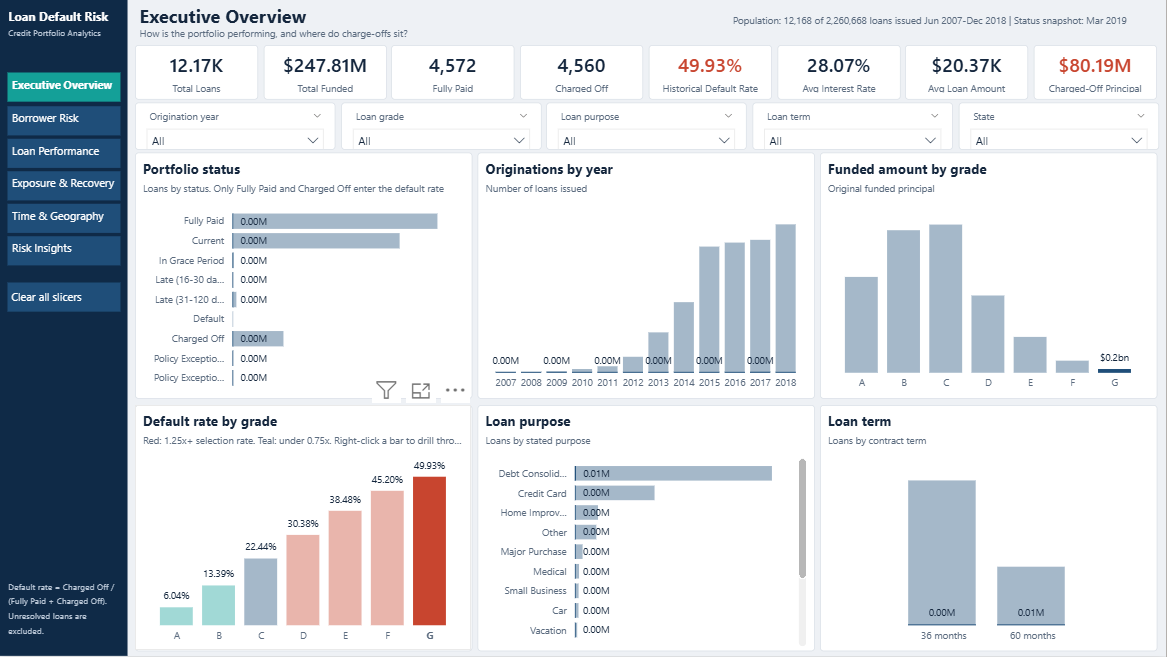

This screenshot's page, from the dashboard's own definition file:
{"tool":"powerbi","page":{"name":"Executive Overview","canvas":[1280,720],"ordinal":0},"visuals":[{"type":"textbox","box":[0,0,140,720],"z":0},{"type":"textbox","box":[4,4,134,72],"z":1000},{"type":"textbox","box":[8,80,124,32],"z":2000},{"type":"actionButton","box":[8,80,124,32],"z":3000},{"type":"textbox","box":[8,116,124,32],"z":4000},{"type":"actionButton","box":[8,116,124,32],"z":5000},{"type":"textbox","box":[8,152,124,32],"z":6000},{"type":"actionButton","box":[8,152,124,32],"z":7000},{"type":"textbox","box":[8,188,124,32],"z":8000},{"type":"actionButton","box":[8,188,124,32],"z":9000},{"type":"textbox","box":[8,224,124,32],"z":10000},{"type":"actionButton","box":[8,224,124,32],"z":11000},{"type":"textbox","box":[8,260,124,32],"z":12000},{"type":"actionButton","box":[8,260,124,32],"z":13000},{"type":"textbox","box":[8,310,124,32],"z":14000},{"type":"actionButton","box":[8,310,124,32],"z":15000},{"type":"textbox","box":[4,630,134,86],"z":16000},{"type":"textbox","box":[148,-2,620,40],"z":17000},{"type":"textbox","box":[148,24,720,26],"z":18000},{"type":"card","fields":{"Values":["fact_loans.Scope Label"]},"box":[770,6,502,40],"z":19000},{"type":"card","fields":{"Values":["fact_loans.Total Loans"]},"box":[148,50,135,60],"z":20000},{"type":"card","fields":{"Values":["fact_loans.Total Funded Amount"]},"box":[289,50,135,60],"z":21000},{"type":"card","fields":{"Values":["fact_loans.Fully Paid Loans"]},"box":[430,50,135,60],"z":22000},{"type":"card","fields":{"Values":["fact_loans.Charged-Off Loans"]},"box":[571,50,135,60],"z":23000},{"type":"card","fields":{"Values":["fact_loans.Historical Default Rate"]},"box":[712,50,135,60],"z":24000},{"type":"card","fields":{"Values":["fact_loans.Average Interest Rate"]},"box":[853,50,135,60],"z":25000},{"type":"card","fields":{"Values":["fact_loans.Average Loan Amount"]},"box":[994,50,135,60],"z":26000},{"type":"card","fields":{"Values":["fact_loans.Charged-Off Principal Exposure"]},"box":[1135,50,135,60],"z":27000},{"type":"slicer","fields":{"Values":["dim_date.issue_year"]},"box":[148,112,220,52],"z":28000},{"type":"slicer","fields":{"Values":["dim_grade.grade"]},"box":[374,112,220,52],"z":29000},{"type":"slicer","fields":{"Values":["dim_purpose.purpose_label"]},"box":[600,112,220,52],"z":30000},{"type":"slicer","fields":{"Values":["dim_term.term_label"]},"box":[826,112,220,52],"z":31000},{"type":"slicer","fields":{"Values":["dim_state.state_name"]},"box":[1052,112,220,52],"z":32000},{"type":"clusteredBarChart","title":"Portfolio status","fields":{"Category":["dim_status.status_clean"],"Y":["fact_loans.Total Loans"]},"box":[148,168,370,270],"z":33000},{"type":"clusteredColumnChart","title":"Originations by year","fields":{"Category":["dim_date.issue_year"],"Y":["fact_loans.Loan Origination Count"]},"box":[524,168,370,270],"z":34000},{"type":"clusteredColumnChart","title":"Funded amount by grade","fields":{"Category":["dim_grade.grade"],"Y":["fact_loans.Total Funded Amount"]},"box":[900,168,370,270],"z":35000},{"type":"clusteredColumnChart","title":"Default rate by grade","fields":{"Category":["dim_grade.grade"],"Y":["fact_loans.Historical Default Rate"]},"box":[148,444,370,270],"z":36000},{"type":"clusteredBarChart","title":"Loan purpose","fields":{"Category":["dim_purpose.purpose_label"],"Y":["fact_loans.Total Loans"]},"box":[524,444,370,270],"z":37000},{"type":"clusteredColumnChart","title":"Loan term","fields":{"Category":["dim_term.term_label"],"Y":["fact_loans.Total Loans"]},"box":[900,444,370,270],"z":38000}]}

Visuals, with their boxes on the page's 1280x720 design canvas (x1, y1, x2, y2). These are canvas units, not pixel positions in the 1167x657 screenshot, which may show the page scaled, cropped or inside an application window:
textbox: (0,0,140,720)
textbox: (4,4,138,76)
textbox: (8,80,132,112)
actionButton: (8,80,132,112)
textbox: (8,116,132,148)
actionButton: (8,116,132,148)
textbox: (8,152,132,184)
actionButton: (8,152,132,184)
textbox: (8,188,132,220)
actionButton: (8,188,132,220)
textbox: (8,224,132,256)
actionButton: (8,224,132,256)
textbox: (8,260,132,292)
actionButton: (8,260,132,292)
textbox: (8,310,132,342)
actionButton: (8,310,132,342)
textbox: (4,630,138,716)
textbox: (148,-2,768,38)
textbox: (148,24,868,50)
card - fact_loans.Scope Label: (770,6,1272,46)
card - fact_loans.Total Loans: (148,50,283,110)
card - fact_loans.Total Funded Amount: (289,50,424,110)
card - fact_loans.Fully Paid Loans: (430,50,565,110)
card - fact_loans.Charged-Off Loans: (571,50,706,110)
card - fact_loans.Historical Default Rate: (712,50,847,110)
card - fact_loans.Average Interest Rate: (853,50,988,110)
card - fact_loans.Average Loan Amount: (994,50,1129,110)
card - fact_loans.Charged-Off Principal Exposure: (1135,50,1270,110)
slicer - dim_date.issue_year: (148,112,368,164)
slicer - dim_grade.grade: (374,112,594,164)
slicer - dim_purpose.purpose_label: (600,112,820,164)
slicer - dim_term.term_label: (826,112,1046,164)
slicer - dim_state.state_name: (1052,112,1272,164)
"Portfolio status" clusteredBarChart: (148,168,518,438)
"Originations by year" clusteredColumnChart: (524,168,894,438)
"Funded amount by grade" clusteredColumnChart: (900,168,1270,438)
"Default rate by grade" clusteredColumnChart: (148,444,518,714)
"Loan purpose" clusteredBarChart: (524,444,894,714)
"Loan term" clusteredColumnChart: (900,444,1270,714)
